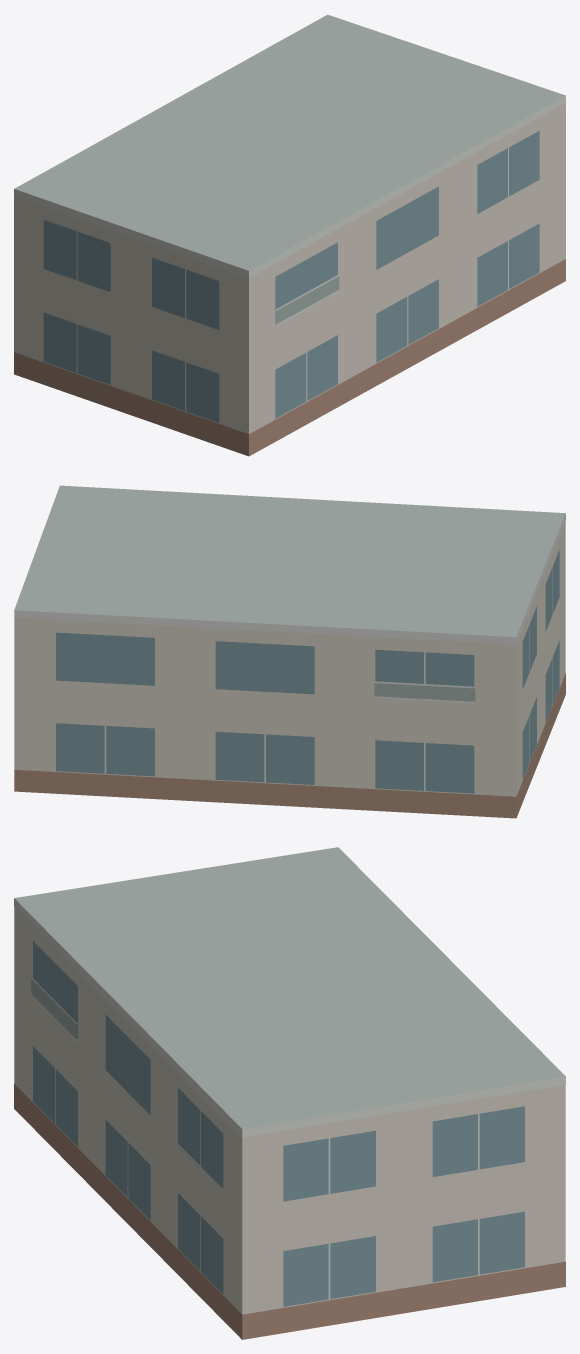
File: survey-upis-32853915.glb
3 renders of one model, top to bottom at view 1: azimuth 30°, elevation 25°; view 2: azimuth 150°, elevation 25°; view 3: azimuth 270°, elevation 25°, orthographic. The views are drawn at different scales.
Visible parts, largest first — view 1: survey-upis-32853915.tmp; view 2: survey-upis-32853915.tmp; view 3: survey-upis-32853915.tmp.
Part boxes in pixels (bbox=[...]): survey-upis-32853915.tmp: bbox=[14, 14, 565, 456]; survey-upis-32853915.tmp: bbox=[14, 485, 565, 818]; survey-upis-32853915.tmp: bbox=[14, 847, 565, 1339].
Size of the model in its own units: 17.54 by 6.1 by 14.49.
